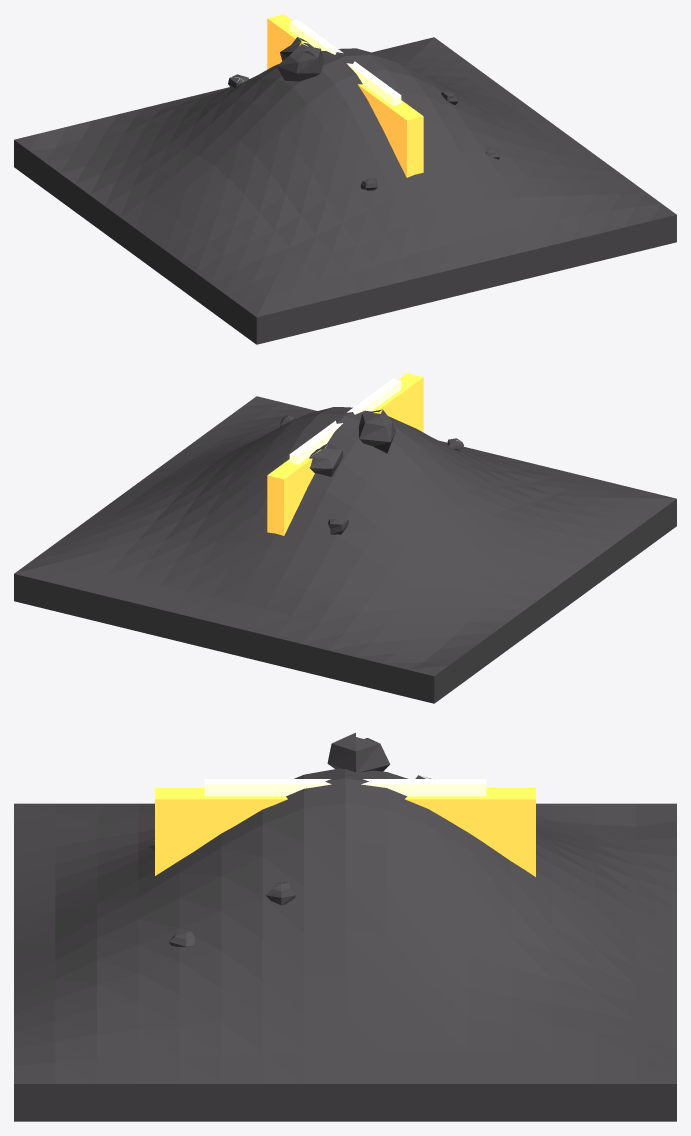
Rendered from volcano-and-lava-fields-volcano-and-lava-fields-tumulu-930c2d92__37441.glb.
The picture shows the model from 3 angles, top to bottom: view 1: azimuth 30°, elevation 25°; view 2: azimuth 150°, elevation 25°; view 3: azimuth 270°, elevation 25°; orthographic projection. The views are drawn at different scales.
Visible parts, largest first — view 1: volcano-and-lava-fields-tumulus-mound; view 2: volcano-and-lava-fields-tumulus-mound; view 3: volcano-and-lava-fields-tumulus-mound.
Boxes of the visible parts, x1,y1,x2,y2 form: volcano-and-lava-fields-tumulus-mound: (14, 14, 676, 344); volcano-and-lava-fields-tumulus-mound: (14, 373, 676, 703); volcano-and-lava-fields-tumulus-mound: (14, 732, 676, 1121).
Size of the model in its own units: 4 by 1.49 by 4.
